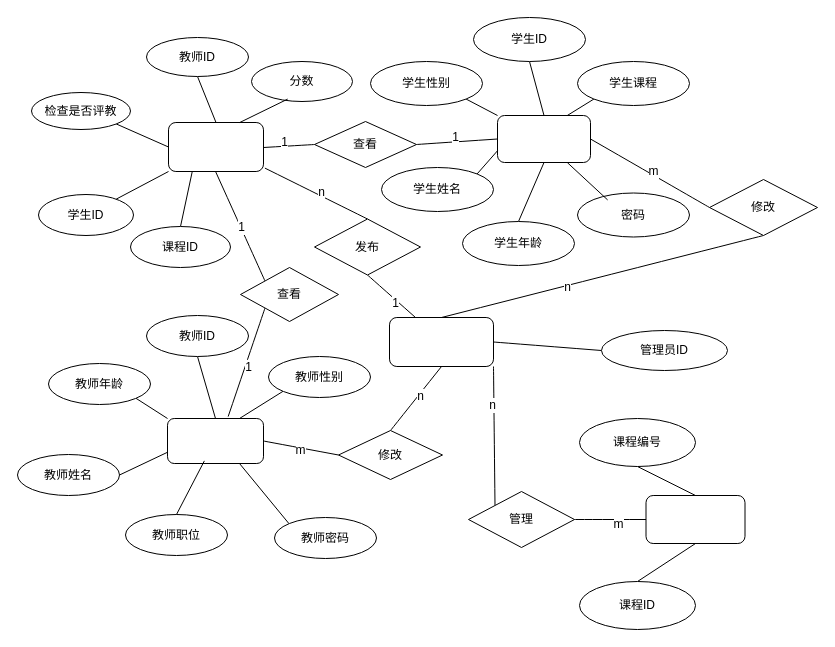
This 835x647 diagram has some shape labels left out. The box of each missing label's shape, as (x1, y1, x2, y2) in pixels:
学生: (496, 114, 590, 162)
教师: (166, 418, 264, 464)
管理员: (388, 316, 494, 366)
评教: (168, 122, 264, 172)
课程类别: (645, 494, 745, 544)
